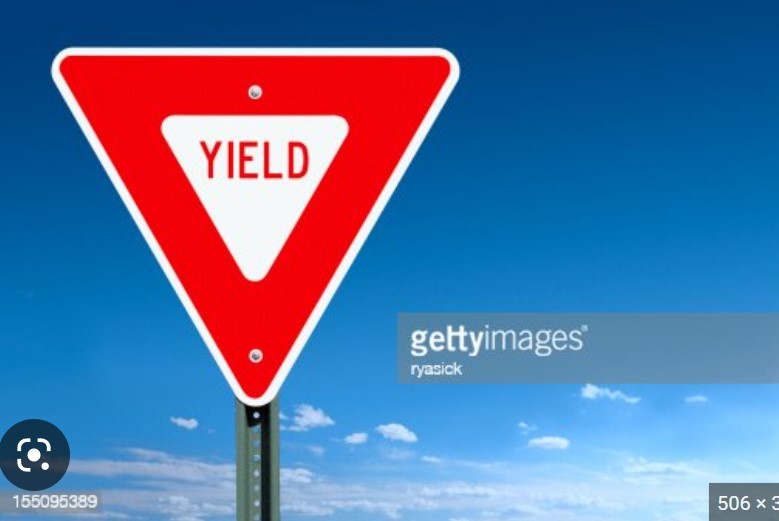Yeild: (47, 40, 465, 412)
